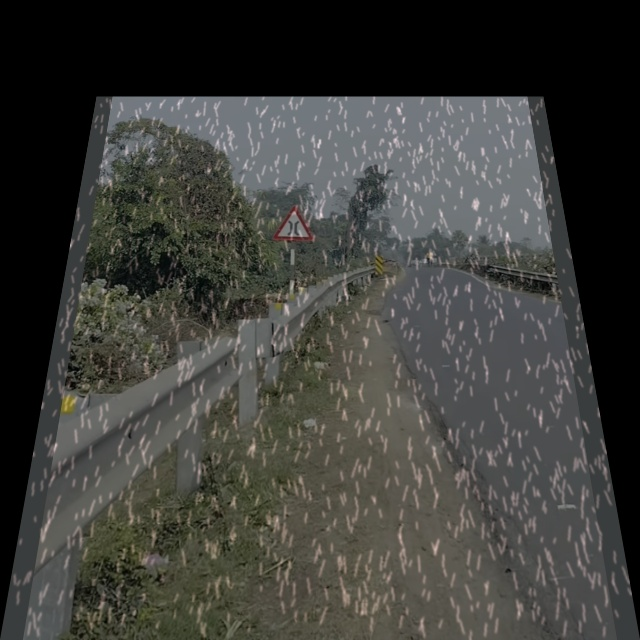Narrow_Bridge: (273, 205, 316, 243)
